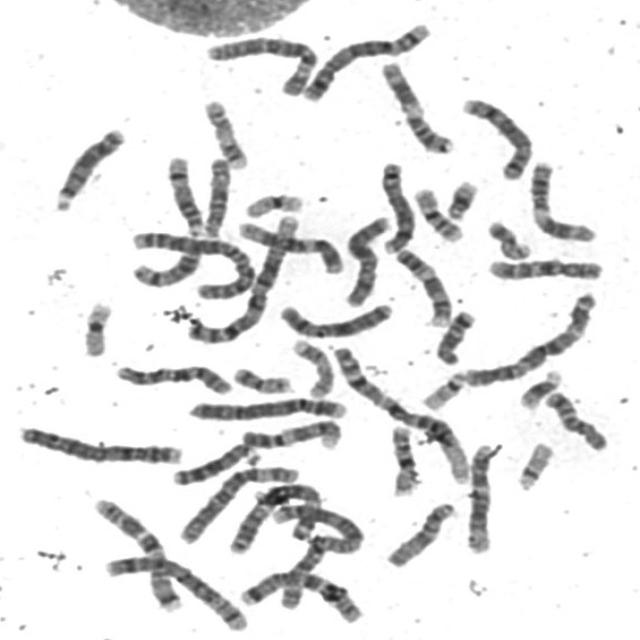A1: (325, 339, 474, 485), (179, 209, 302, 345)
A2: (267, 498, 367, 617), (125, 224, 258, 302)
A3: (456, 284, 602, 389), (222, 478, 324, 556)
B4: (10, 418, 186, 467), (181, 390, 350, 423)
B5: (96, 549, 252, 633), (294, 15, 434, 103)
C10: (107, 356, 235, 396), (480, 252, 606, 282)
C11: (374, 55, 456, 156), (522, 154, 599, 244)
C12: (231, 215, 346, 276), (460, 438, 499, 556)
C6: (172, 458, 300, 546), (200, 28, 320, 98)
C7: (84, 492, 186, 613), (232, 564, 367, 625)
C8: (454, 90, 535, 182), (373, 156, 417, 256)
C9: (389, 243, 454, 328), (234, 414, 346, 452)
D13: (46, 121, 128, 213), (164, 436, 263, 488)
D14: (160, 149, 207, 236), (125, 242, 205, 288)
D15: (379, 496, 460, 570), (196, 151, 232, 239)
E16: (406, 182, 466, 244), (383, 418, 420, 498)
E17: (197, 93, 252, 171), (284, 332, 336, 398)
E18: (538, 386, 611, 453), (429, 304, 478, 366)
F19: (74, 295, 115, 358), (238, 186, 306, 220)
F20: (226, 360, 296, 396), (481, 214, 534, 261)
G21: (511, 362, 565, 411), (438, 174, 482, 222)
G22: (509, 436, 556, 492), (415, 365, 469, 412)
X: (336, 209, 393, 309), (272, 296, 396, 339)
